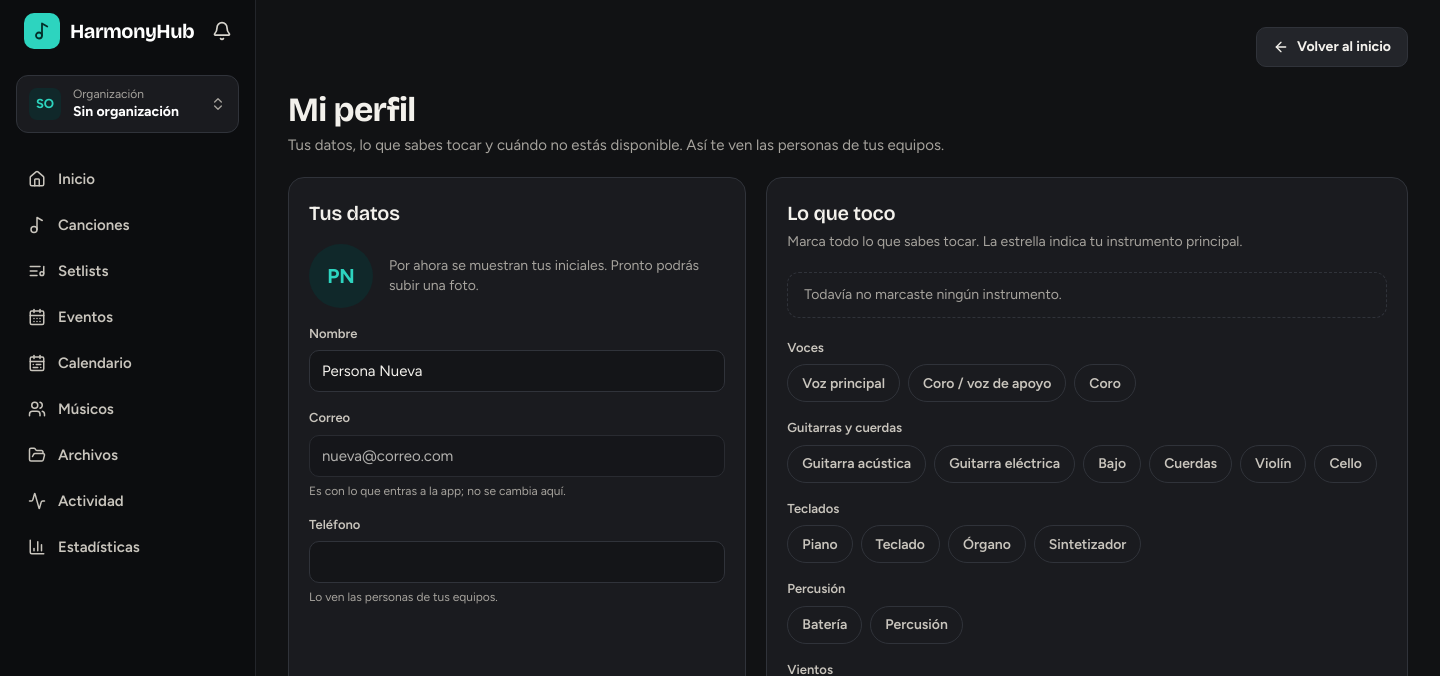
Scenario: cuenta sin organizacion: entra a la aplicacion › si guardar falla, se ve el error y no el aviso
Type "555-1234" into the field labelled "Teléfono".
click(517, 562); type("555-1234")  # box [309,541,725,583]
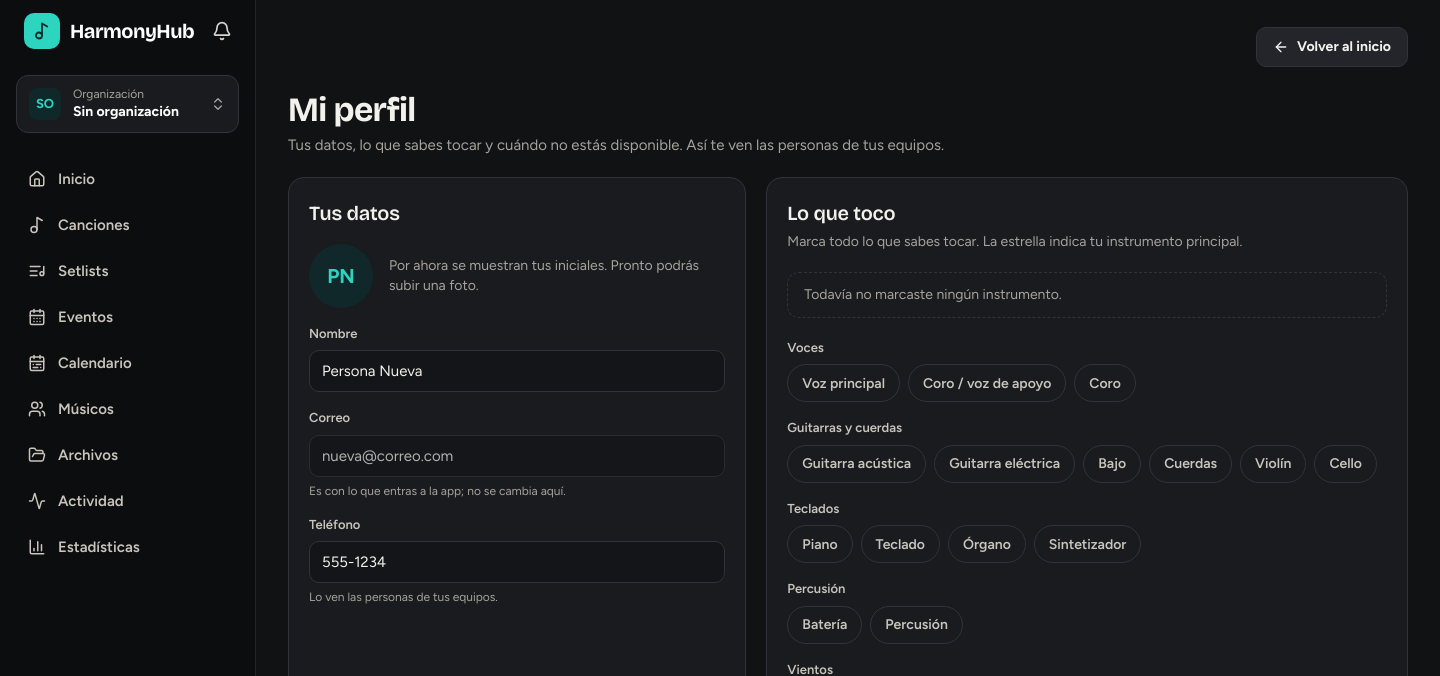
Click the button "Bajo".
click(1112, 464)  # box [1083,445,1141,483]
(page scrolled)
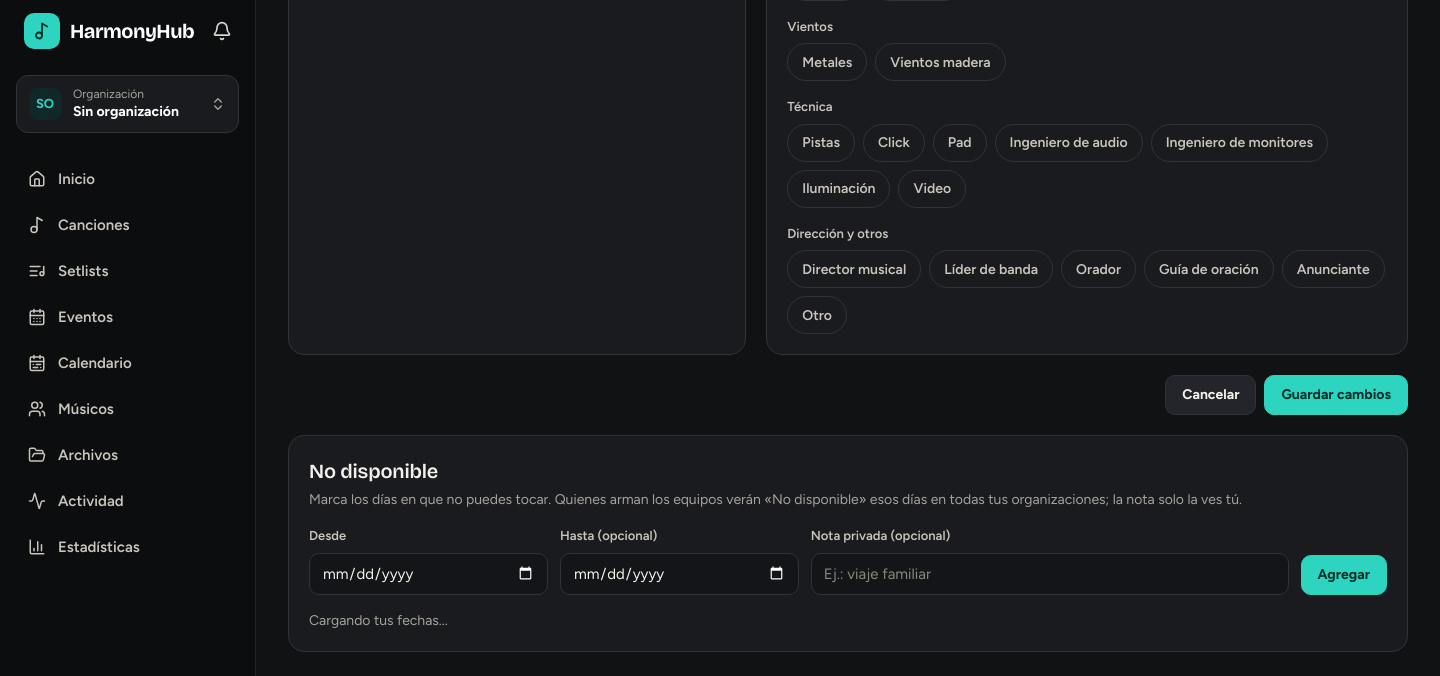
Click the button "Guardar cambios".
click(1336, 395)  # box [1264,375,1408,415]
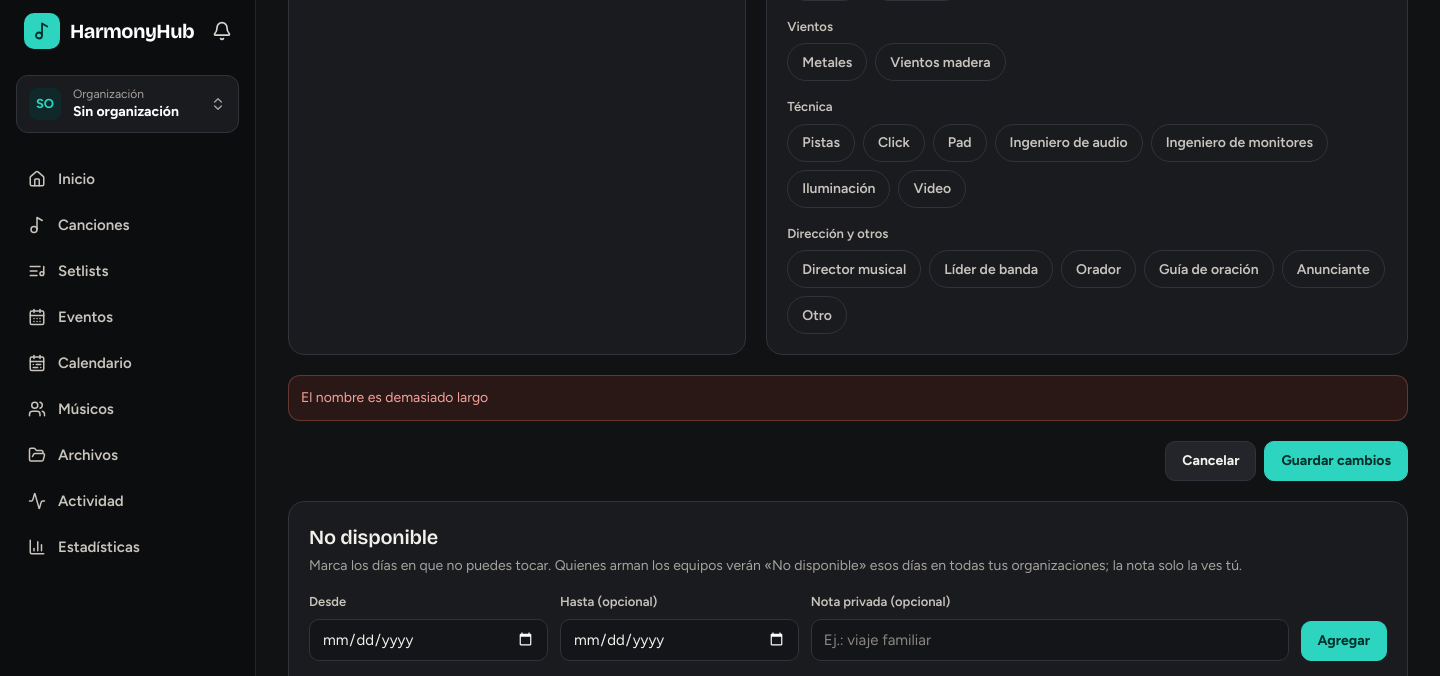
Check: the message reads "El nombre es demasiado largo", box [301,389,488,406]
